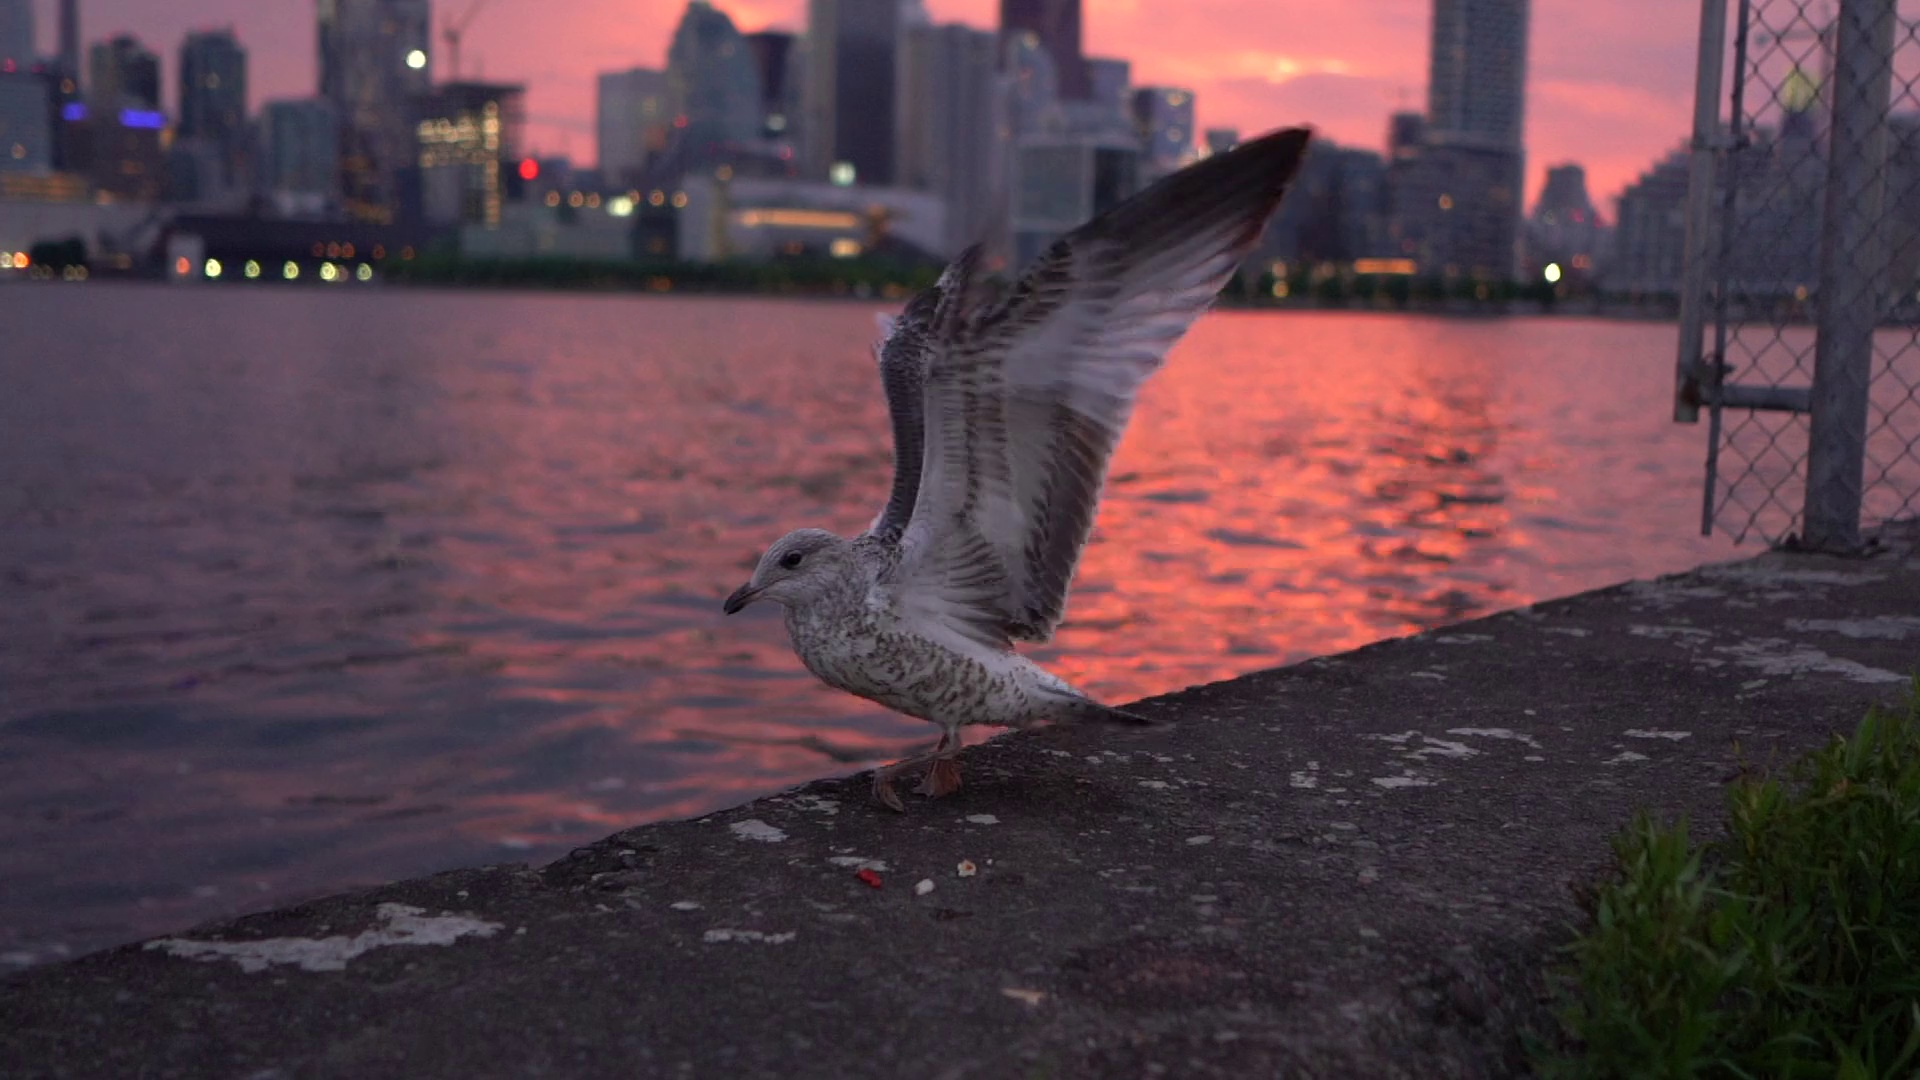bird: (719, 127, 1308, 818)
